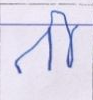i_matra: (52, 9, 80, 68)
